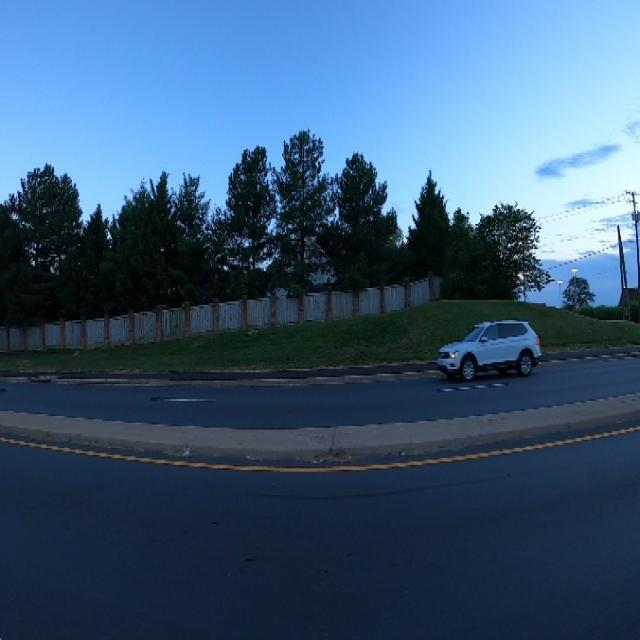cars: (435, 302, 543, 394)
